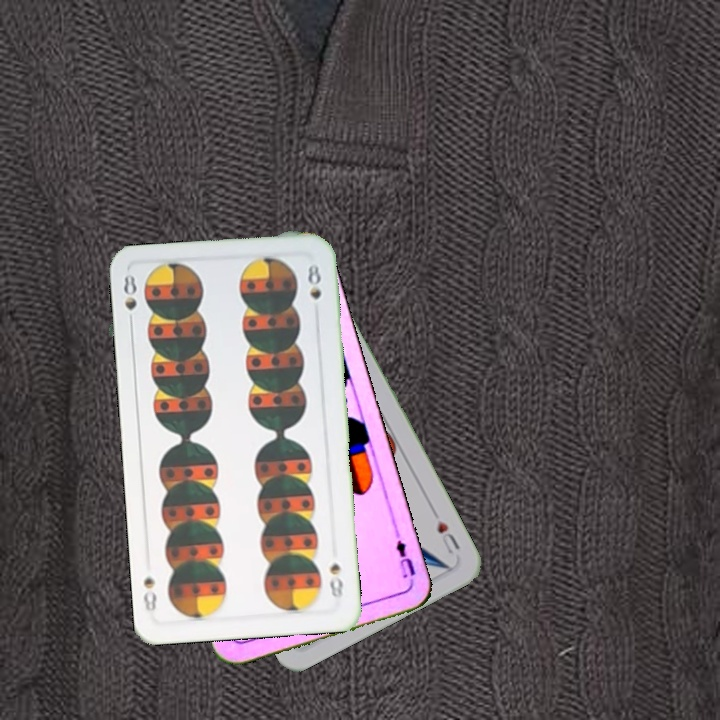EU: (391, 528, 418, 586)
HU: (433, 515, 462, 557)
S8: (119, 270, 139, 329), (325, 558, 346, 602)
